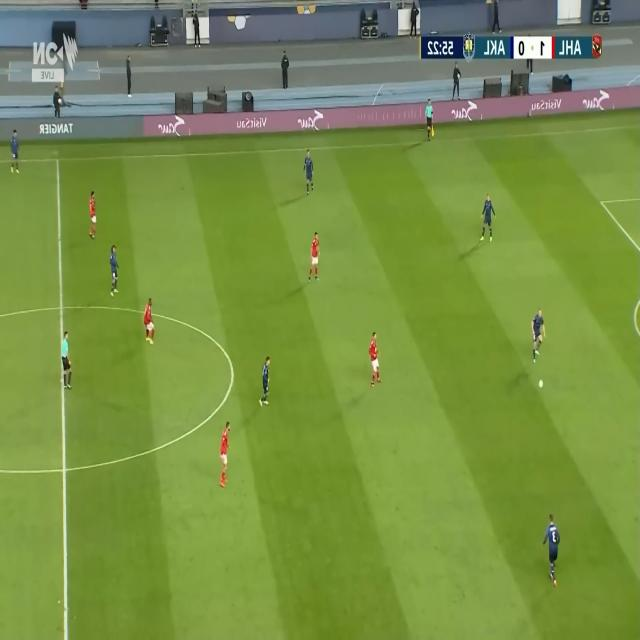Ball: (538, 376, 545, 393)
Player: (541, 512, 560, 585), (217, 418, 231, 488), (479, 194, 497, 244), (257, 349, 271, 411), (531, 307, 545, 367), (368, 329, 382, 387), (307, 230, 320, 284), (144, 296, 157, 346), (9, 128, 22, 176), (88, 189, 99, 241), (109, 244, 119, 298), (303, 149, 313, 194)
Ref: (59, 330, 73, 391), (424, 98, 438, 140)
